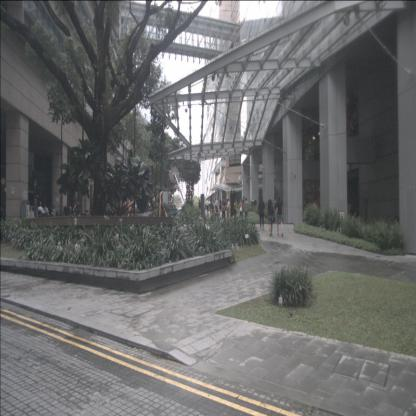human-pedestrian-adult: (257, 196, 266, 230), (267, 199, 275, 237), (276, 194, 283, 237), (73, 199, 81, 224), (38, 201, 45, 226), (243, 198, 249, 226), (43, 204, 49, 226), (208, 195, 214, 215), (210, 205, 216, 224), (51, 205, 56, 226), (226, 198, 230, 224), (240, 199, 244, 222), (221, 197, 225, 219), (242, 196, 246, 217), (234, 199, 237, 222), (214, 205, 218, 222), (214, 197, 218, 214), (206, 198, 209, 216), (219, 198, 222, 212)
